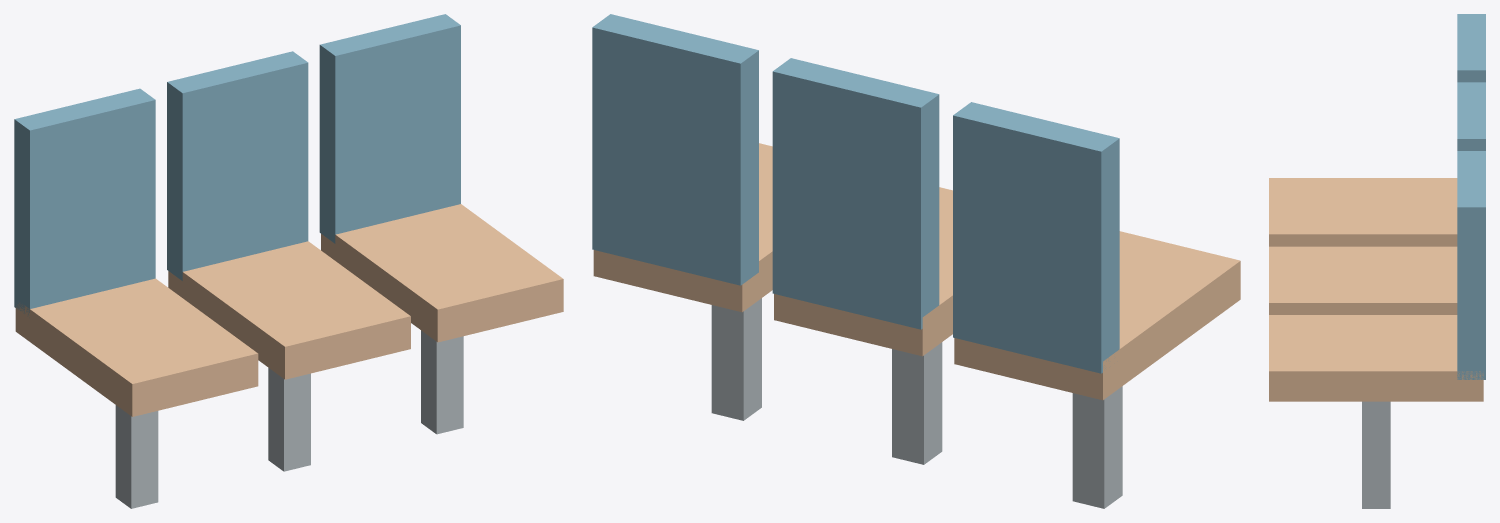
Rendered from lecture_seating_row.glb.
3 renders of one model, left to right at view 1: azimuth 30°, elevation 25°; view 2: azimuth 150°, elevation 25°; view 3: azimuth 270°, elevation 25°, orthographic. The views are drawn at different scales.
Bounding box in the file's own units: 0.96 × 0.75 × 0.455.
